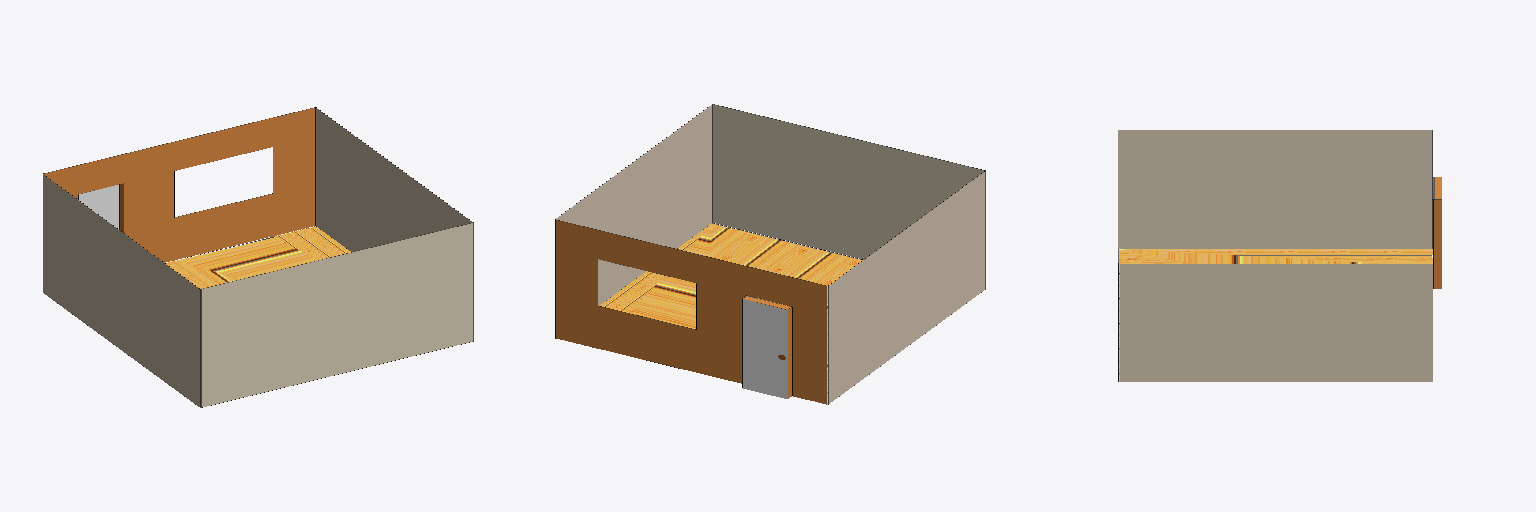
3 renders of one model, left to right at view 1: azimuth 30°, elevation 25°; view 2: azimuth 150°, elevation 25°; view 3: azimuth 270°, elevation 25°, orthographic.
Parts seen in each view (by area): view 1: Plane; view 2: Plane; view 3: Plane.
Boxes of the visible parts, box(x1,y1,x2,y2) form: Plane: box(43, 107, 473, 407); Plane: box(555, 104, 985, 404); Plane: box(1118, 130, 1441, 381).
Bounding box in the file's own units: 6 × 2.5 × 6.17.
Materials: 1 (1 with a texture image).